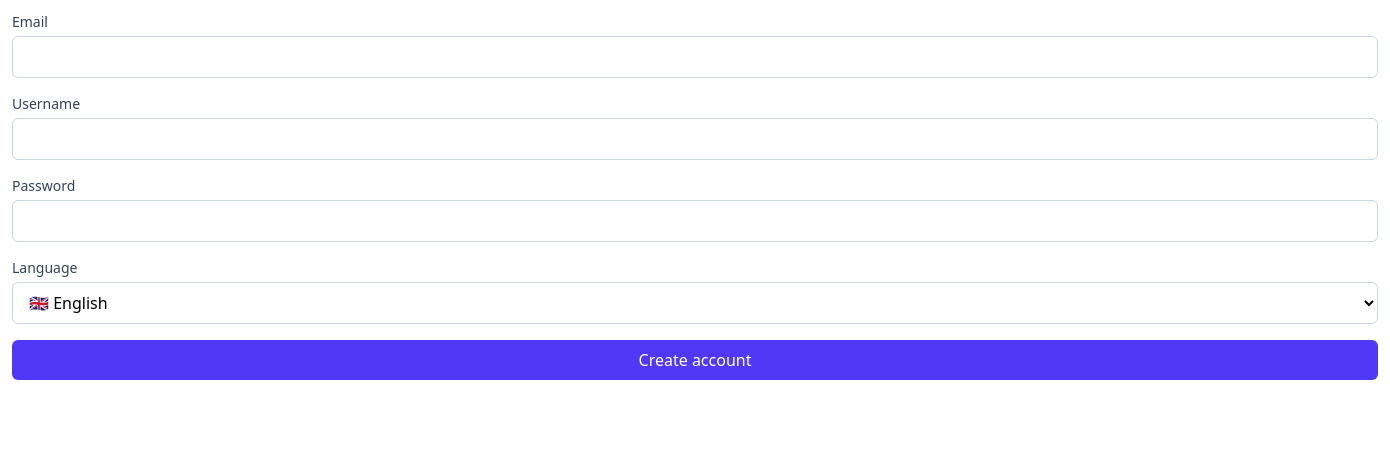
SignupForm › shows client-side validation errors when fields are empty
This screenshot has width=1390, height=469.
Click the button "Create account" at (695, 360), box [12,340,1378,380]
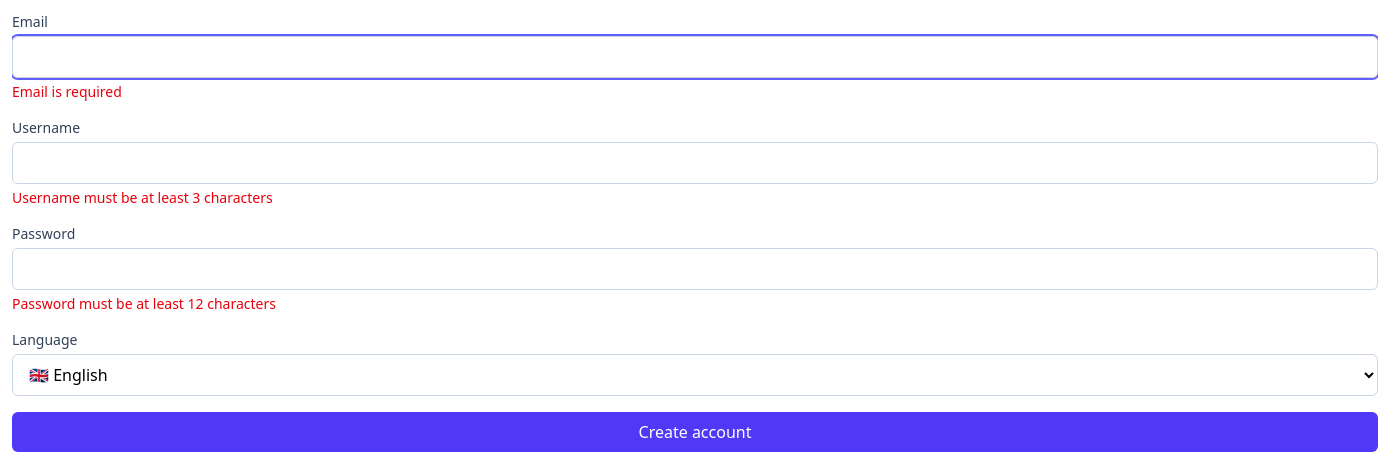
Now the text "Email is required" is shown, box [12,82,122,101]
Now the text "Password must be at least 12 characters" is shown, box [12,294,276,313]
Now the text "Username must be at least 3 characters" is shown, box [12,188,273,207]
